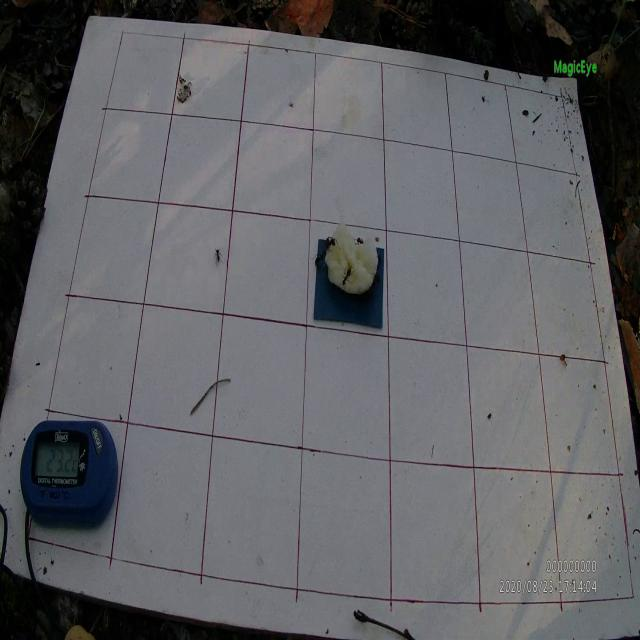Ant: (340, 265, 358, 287), (324, 235, 341, 255), (214, 246, 225, 267), (312, 252, 326, 266)
